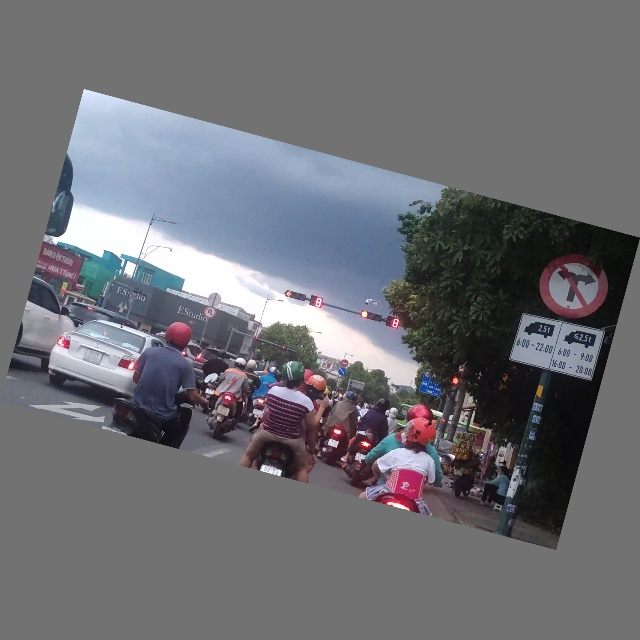P.102: (340, 359, 349, 369)
P.124a*: (202, 305, 218, 321)
P.137: (531, 247, 615, 328)
R.302a: (337, 368, 347, 377)
S.505a*Xe tai: (509, 311, 605, 382)
